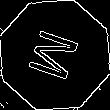M_E: (24, 25, 86, 85)
